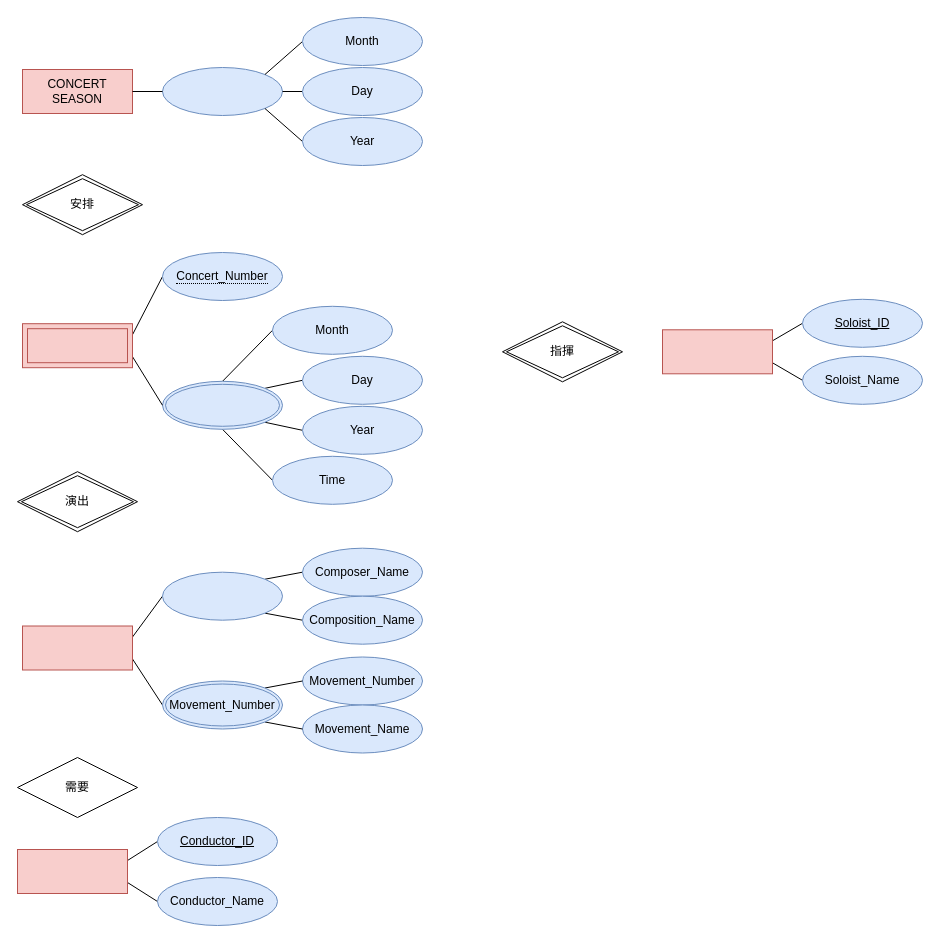
The diagram is 940 pixels wide and 943 high, and some of its shapes have lost their labels. Each missing label, with the box of its shape:
COMPOSITION: (22, 625, 132, 670)
Composition_ID: (162, 571, 282, 620)
CONCERT: (22, 323, 132, 368)
Concert_Date: (162, 380, 282, 429)
CONDUCTOR: (16, 848, 128, 894)
Opening-date: (162, 66, 282, 116)
SOLOIST: (662, 329, 772, 374)
